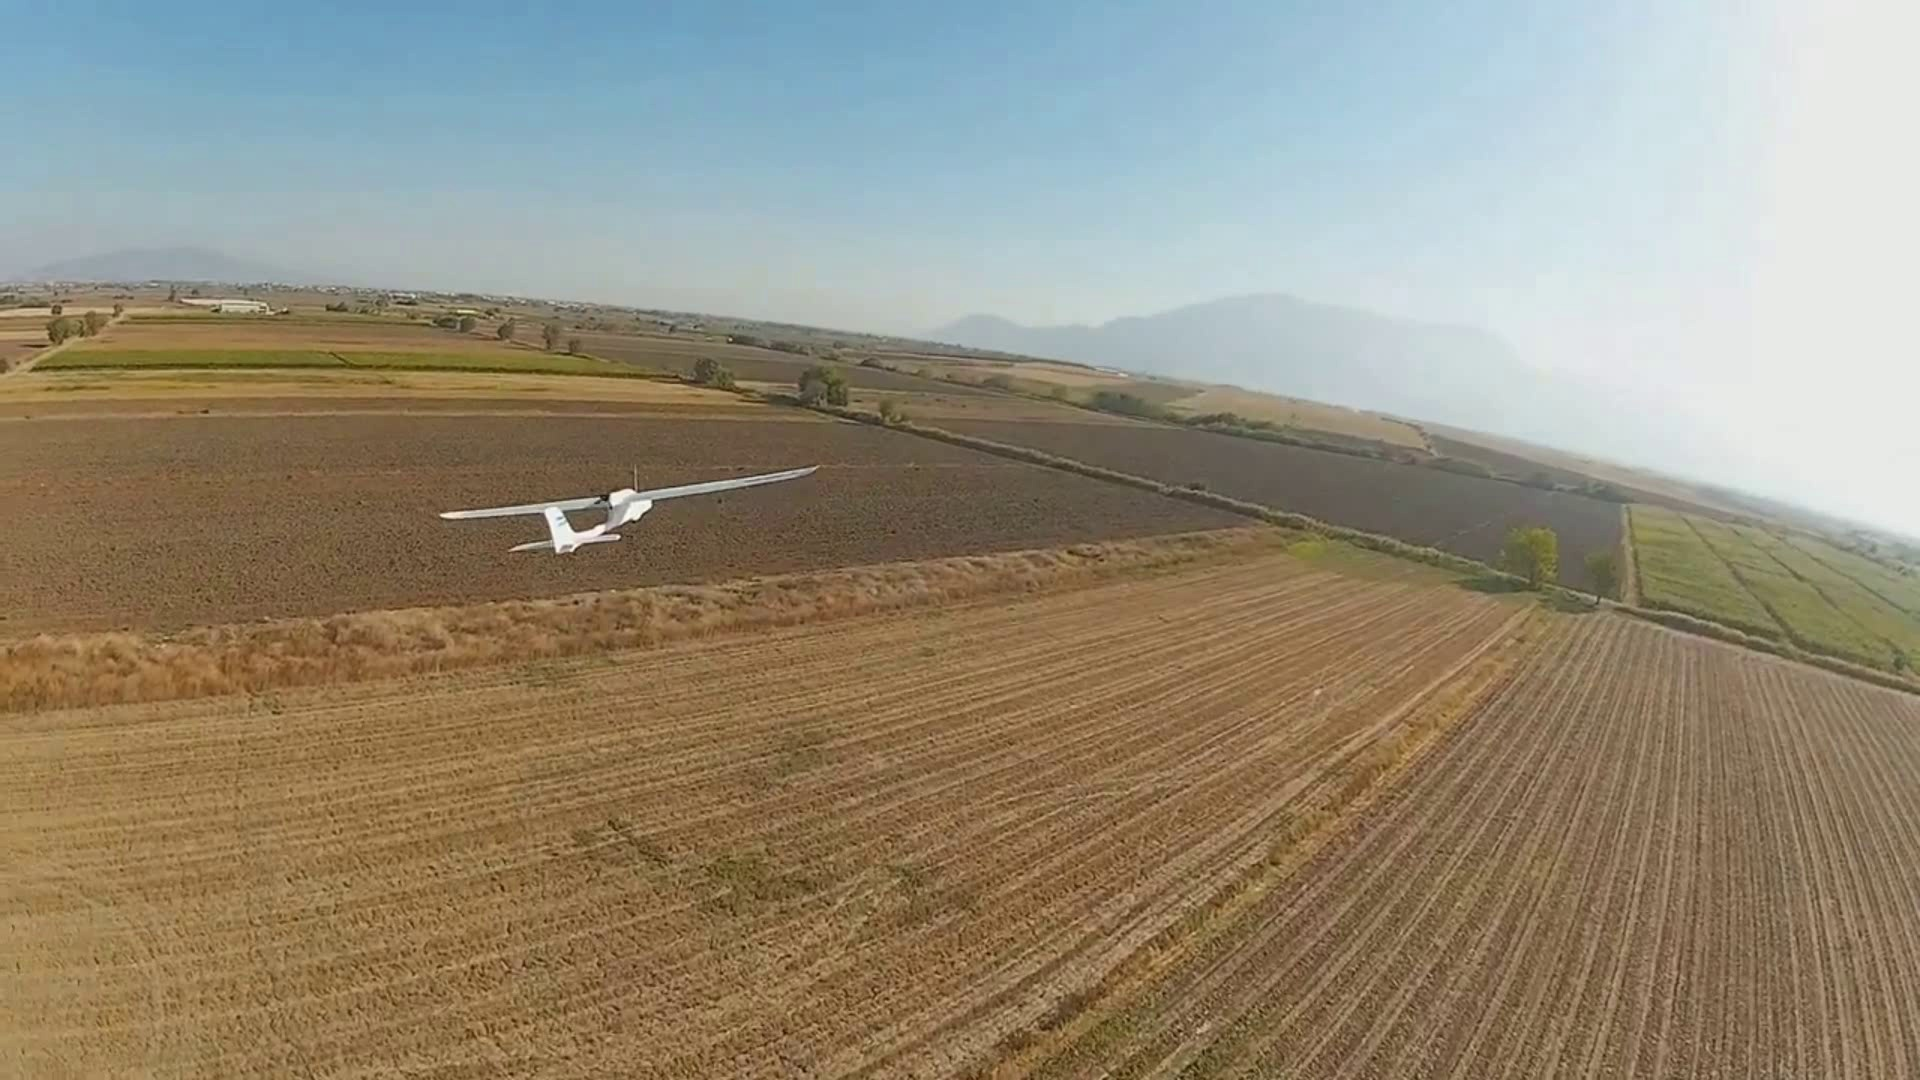airplane: (438, 462, 819, 560)
